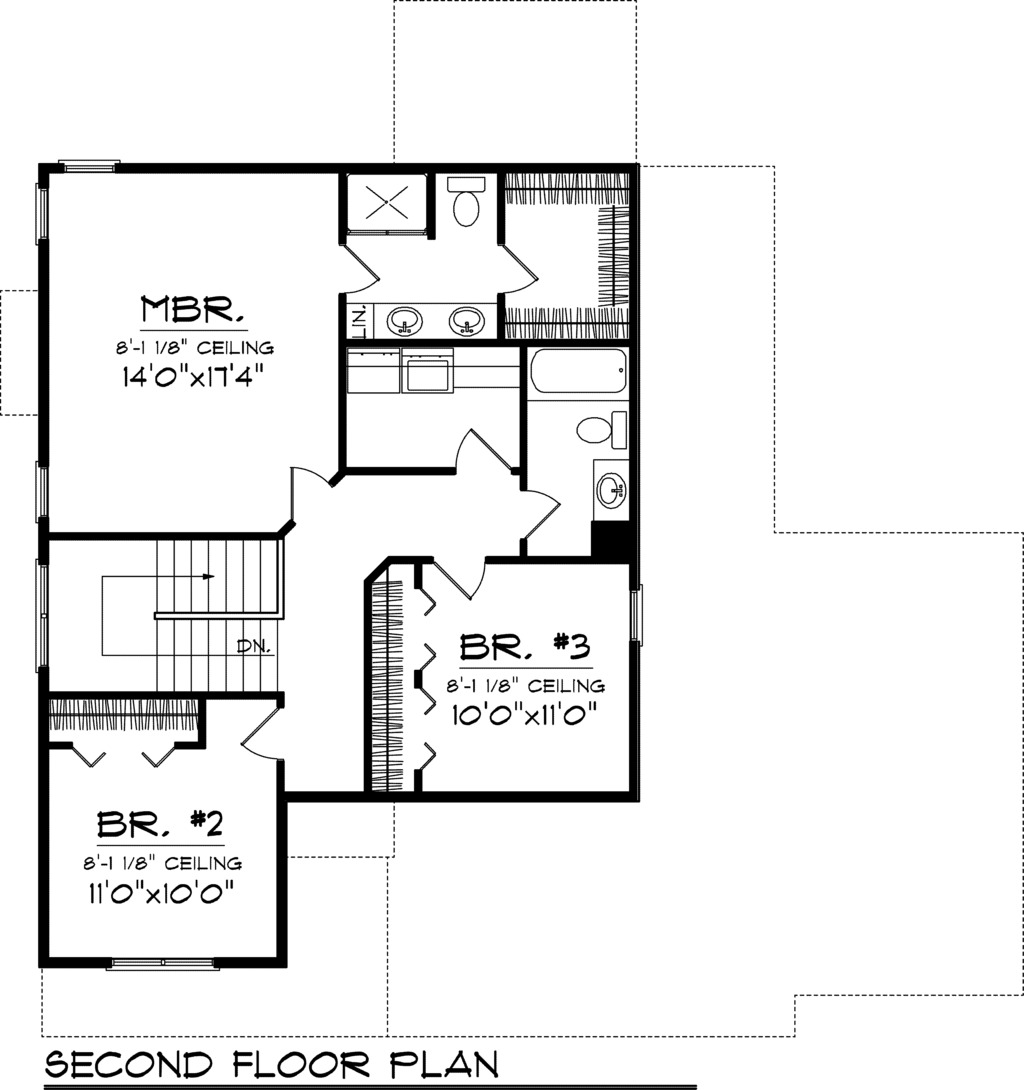door: (237, 693, 302, 768), (327, 235, 386, 305), (280, 461, 342, 527), (429, 546, 498, 600), (449, 422, 514, 478), (493, 240, 534, 312), (515, 481, 559, 535)
large_sink: (425, 162, 498, 237), (559, 401, 646, 452)
small_sink: (371, 298, 500, 342), (588, 462, 634, 520)
stairs: (61, 542, 285, 688)
tub: (525, 346, 625, 396)
window: (100, 937, 227, 976), (30, 554, 61, 674), (27, 464, 58, 529), (46, 159, 132, 179), (30, 186, 59, 242), (627, 585, 644, 637)
